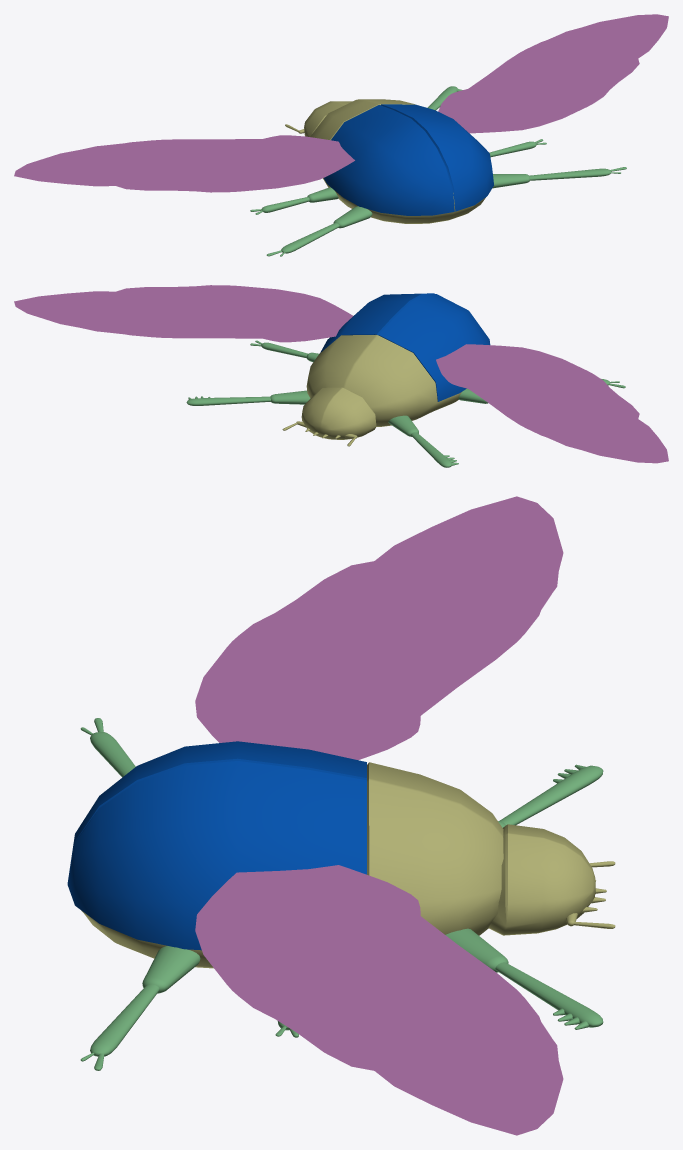
The model's file is Character Beetle.fbx.
3 renders of one model, top to bottom at view 1: azimuth 30°, elevation 25°; view 2: azimuth 150°, elevation 25°; view 3: azimuth 270°, elevation 25°, orthographic. The views are drawn at different scales.
Visible parts, largest first — view 1: Ala_Izq2, Ala_Izq1, Caparazon_Izq, Caparazon_Der, Cuerpo, Cabeza, polySurface13, polySurface6, polySurface8, polySurface12, polySurface24; view 2: Ala_Izq1, Ala_Izq2, Cuerpo, Caparazon_Izq, Cabeza, Caparazon_Der, polySurface43, polySurface42, polySurface32, polySurface40, polySurface18; view 3: Ala_Izq1, Ala_Izq2, Caparazon_Der, Cuerpo, Cabeza, Caparazon_Izq, polySurface43, polySurface42, polySurface13, polySurface12, polySurface6, polySurface32.
Part boxes in pixels (left/top/right/bottom): Ala_Izq2: left=14, top=135, right=354, bottom=192; Ala_Izq1: left=438, top=14, right=668, bottom=133; Caparazon_Izq: left=323, top=105, right=454, bottom=215; Caparazon_Der: left=381, top=104, right=493, bottom=211; Cuerpo: left=310, top=99, right=485, bottom=223; Cabeza: left=285, top=101, right=352, bottom=136; polySurface13: left=529, top=167, right=626, bottom=180; polySurface6: left=266, top=223, right=339, bottom=256; polySurface8: left=333, top=206, right=372, bottom=228; polySurface12: left=492, top=174, right=530, bottom=188; polySurface24: left=250, top=197, right=309, bottom=214; Ala_Izq1: left=14, top=285, right=352, bottom=342; Ala_Izq2: left=436, top=344, right=668, bottom=463; Cuerpo: left=306, top=335, right=462, bottom=426; Caparazon_Izq: left=378, top=294, right=490, bottom=401; Cabeza: left=282, top=387, right=376, bottom=446; Caparazon_Der: left=320, top=293, right=434, bottom=352; polySurface43: left=186, top=396, right=270, bottom=405; polySurface42: left=411, top=432, right=458, bottom=467; polySurface32: left=270, top=390, right=310, bottom=404; polySurface40: left=388, top=415, right=418, bottom=436; polySurface18: left=250, top=340, right=307, bottom=358; Ala_Izq1: left=195, top=865, right=563, bottom=1135; Ala_Izq2: left=195, top=496, right=563, bottom=760; Caparazon_Der: left=67, top=761, right=366, bottom=950; Cuerpo: left=81, top=762, right=503, bottom=968; Cabeza: left=488, top=824, right=615, bottom=935; Caparazon_Izq: left=67, top=741, right=366, bottom=882; polySurface43: left=495, top=962, right=603, bottom=1029; polySurface42: left=499, top=764, right=603, bottom=825; polySurface13: left=80, top=984, right=159, bottom=1070; polySurface12: left=142, top=946, right=200, bottom=993; polySurface6: left=80, top=718, right=135, bottom=777; polySurface32: left=445, top=928, right=508, bottom=972.
Bounding box in the file's own units: 6.27 × 0.7286 × 2.27.
